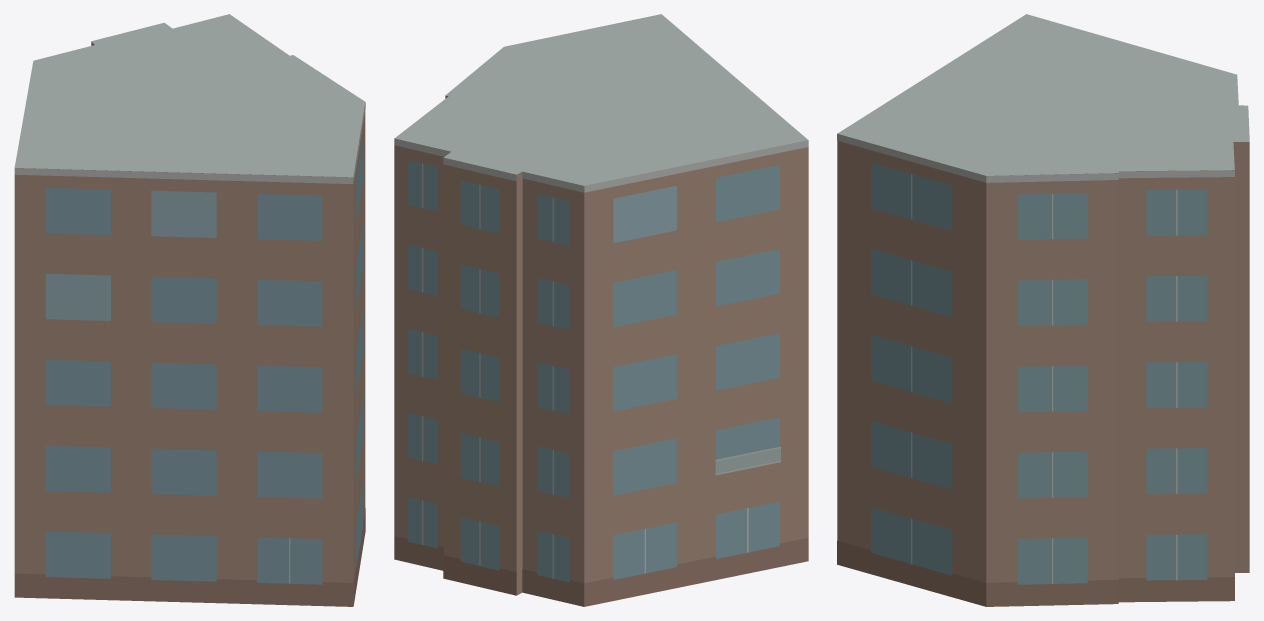
Rendered from survey-upis-32703124.glb.
3 views of the same model, side by side, from view 1: azimuth 30°, elevation 25°; view 2: azimuth 150°, elevation 25°; view 3: azimuth 270°, elevation 25° (orthographic). The views are drawn at different scales.
Parts seen in each view (by area): view 1: survey-upis-32703124.tmp; view 2: survey-upis-32703124.tmp; view 3: survey-upis-32703124.tmp.
Boxes of the visible parts, box(x1,y1,x2,y2) form: survey-upis-32703124.tmp: box(14, 14, 365, 606); survey-upis-32703124.tmp: box(394, 14, 808, 606); survey-upis-32703124.tmp: box(837, 14, 1249, 606).
Size of the model in its own units: 12.24 by 15.17 by 13.18.
